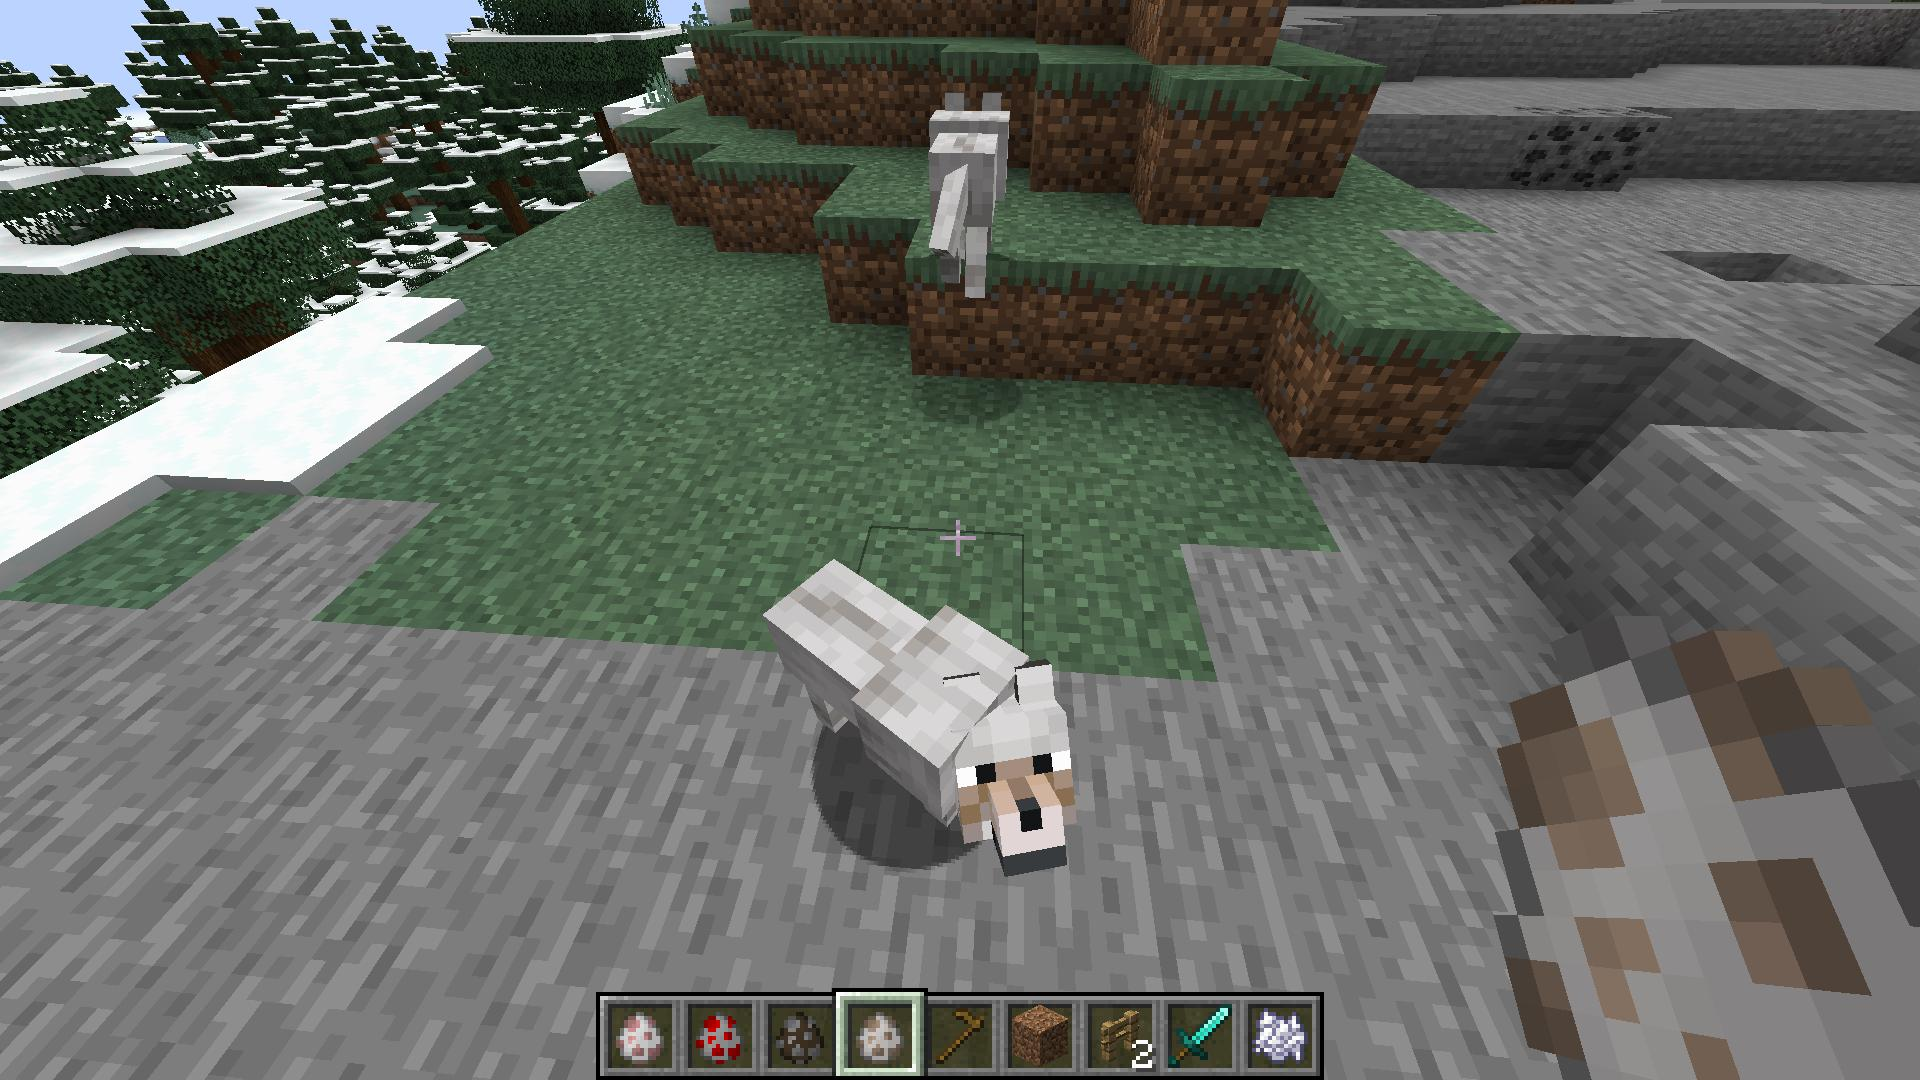wolf: (758, 554, 1081, 880), (924, 86, 1021, 307)
